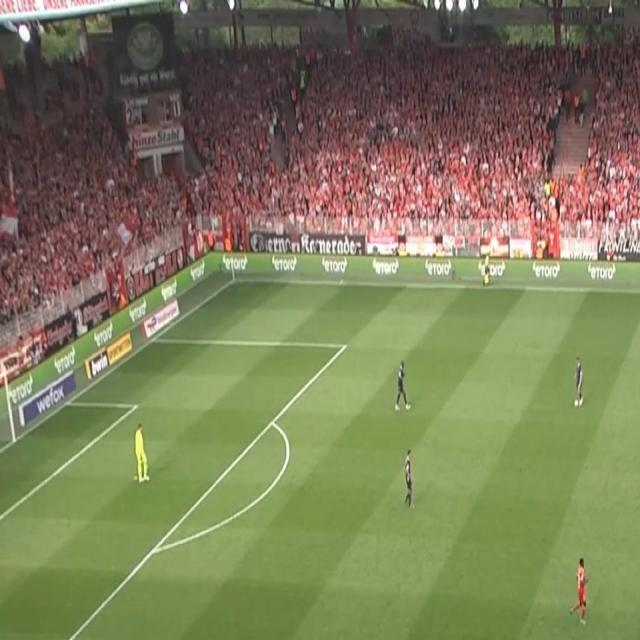ball: (574, 397, 580, 409)
